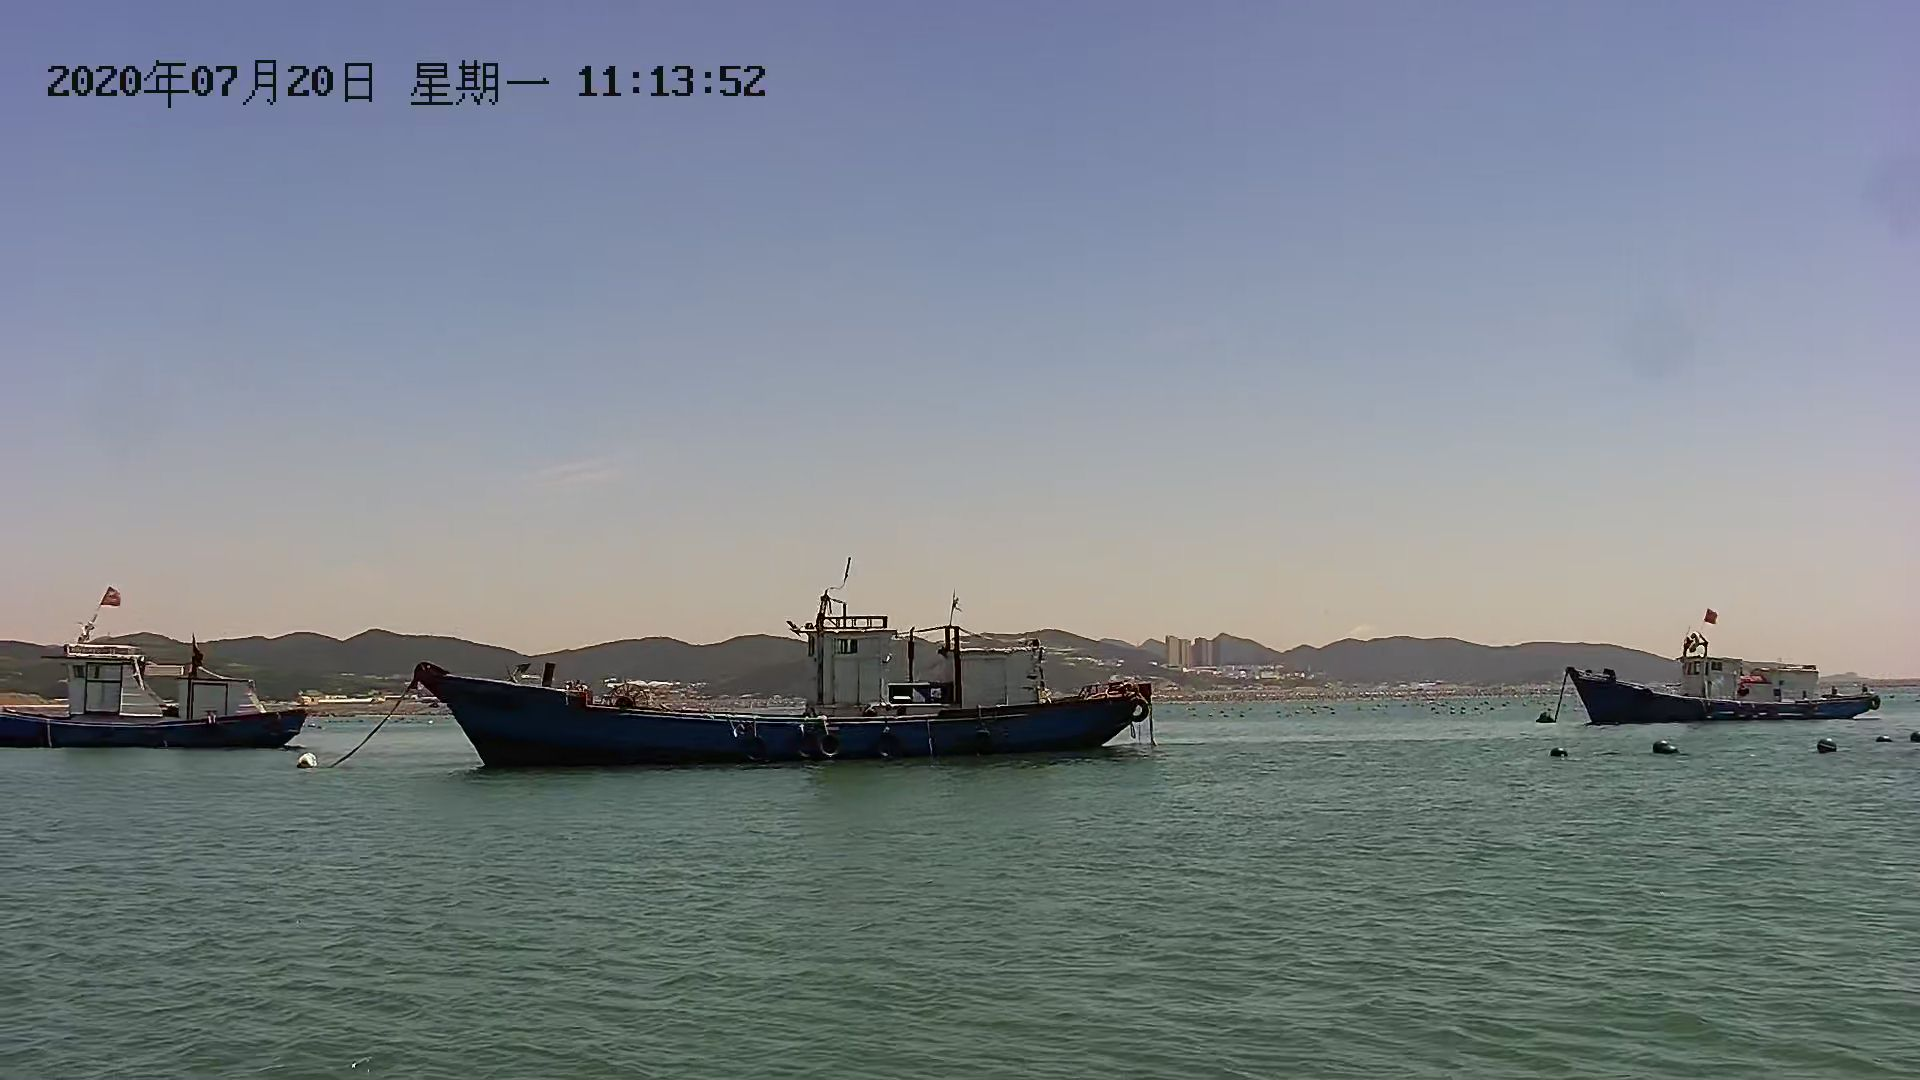ball: (1530, 708, 1567, 735), (1807, 735, 1844, 757), (1648, 738, 1681, 756), (1542, 749, 1575, 765)
boat: (409, 613, 1163, 765), (1, 645, 316, 753), (1571, 632, 1898, 732)
